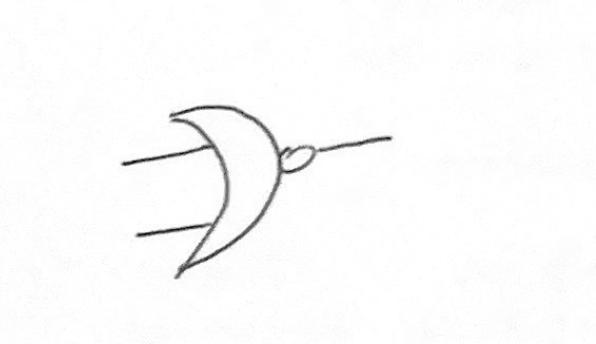NOR: (161, 101, 318, 290)
